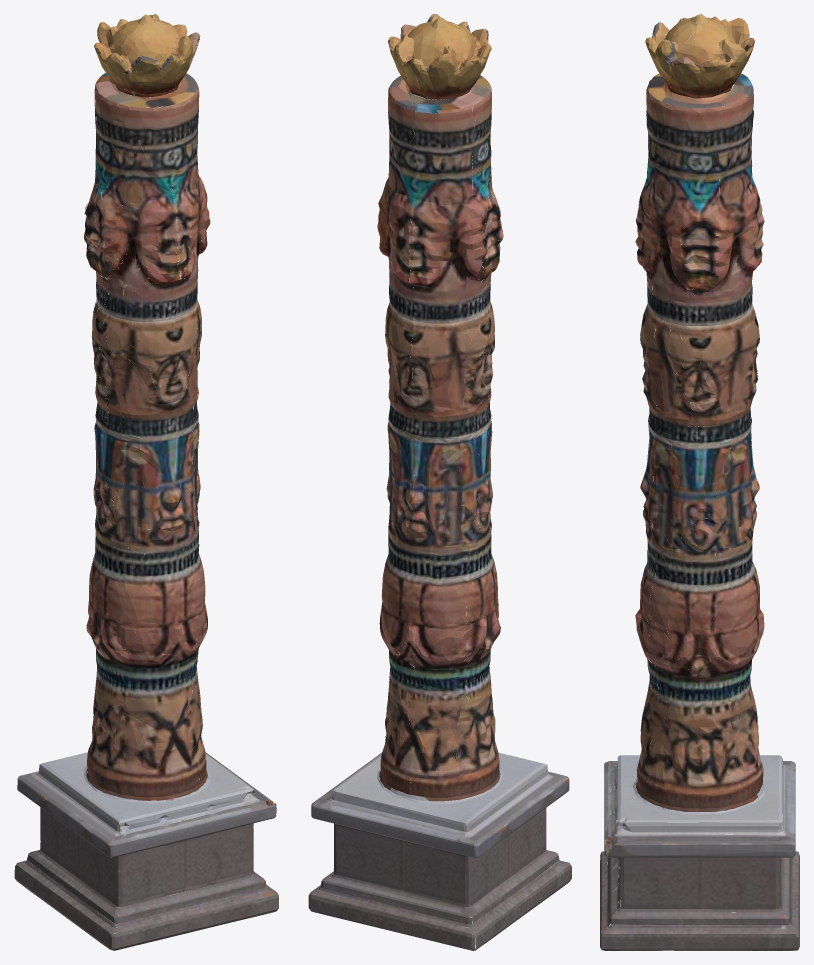
The model's file is 02_totem_pillar.glb.
3 views of the same model, side by side, from view 1: azimuth 30°, elevation 25°; view 2: azimuth 150°, elevation 25°; view 3: azimuth 270°, elevation 25° (orthographic).
Parts seen in each view (by area): view 1: 02_totem_pillar.ply; view 2: 02_totem_pillar.ply; view 3: 02_totem_pillar.ply.
Boxes of the visible parts, x1,y1,x2,y2 form: 02_totem_pillar.ply: [14, 14, 278, 950]; 02_totem_pillar.ply: [308, 14, 571, 950]; 02_totem_pillar.ply: [600, 14, 799, 950].
Bounding box in the file's own units: 0.2004 × 1 × 0.2022.
Materials: 1 (1 with a texture image).
